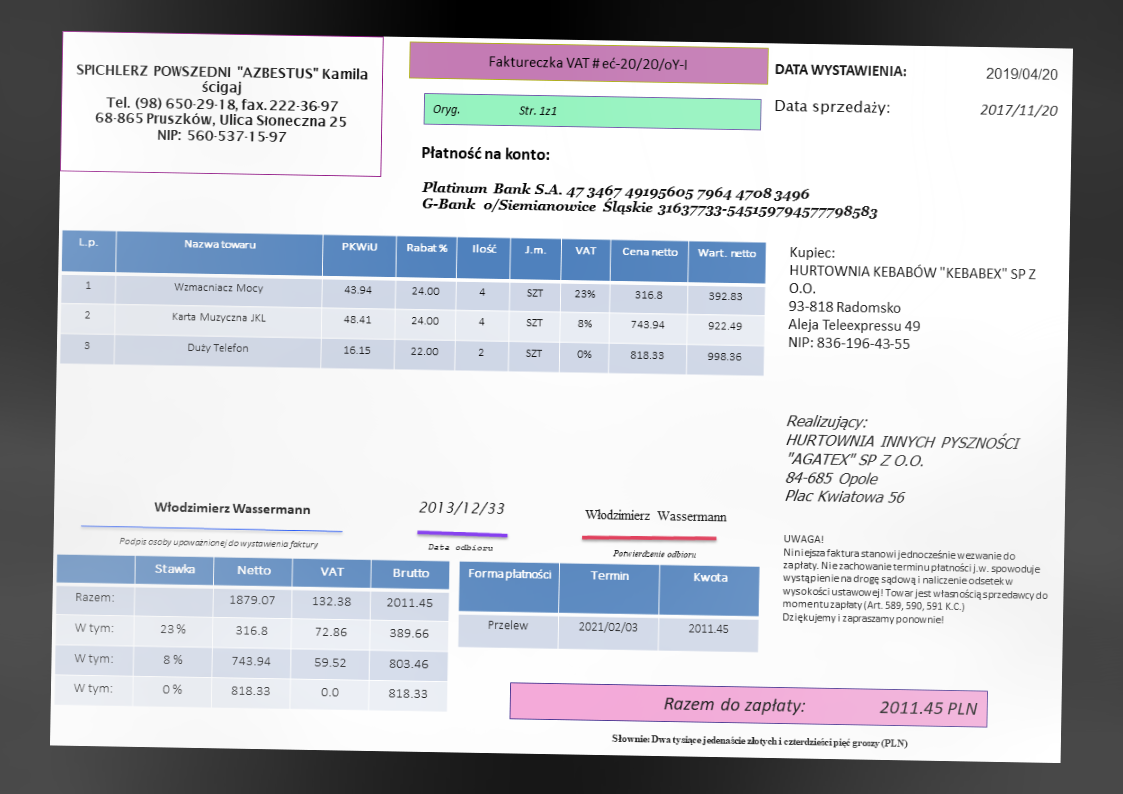Table: (58, 227, 769, 378), (52, 552, 452, 714), (456, 559, 763, 654)
TextBox: (785, 243, 1039, 357), (779, 531, 1054, 629), (72, 60, 372, 148), (781, 409, 1023, 512), (418, 177, 883, 224), (659, 691, 981, 722), (608, 729, 912, 752), (484, 51, 689, 74), (150, 495, 314, 520), (116, 532, 321, 552), (774, 57, 910, 82), (419, 142, 552, 166), (580, 504, 731, 525), (431, 99, 560, 120), (773, 96, 893, 118), (415, 496, 507, 518), (976, 99, 1059, 120), (983, 62, 1062, 83), (610, 546, 699, 561), (422, 538, 497, 555)
